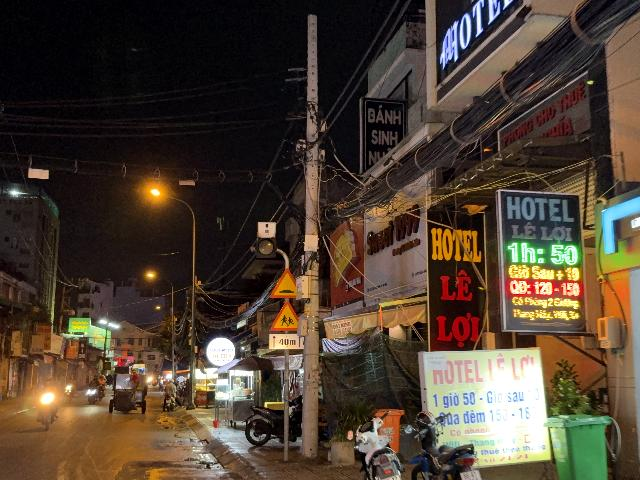duong-co-go-giam-toc: (269, 268, 297, 298)
tre-em-qua-duong: (270, 300, 299, 331)
